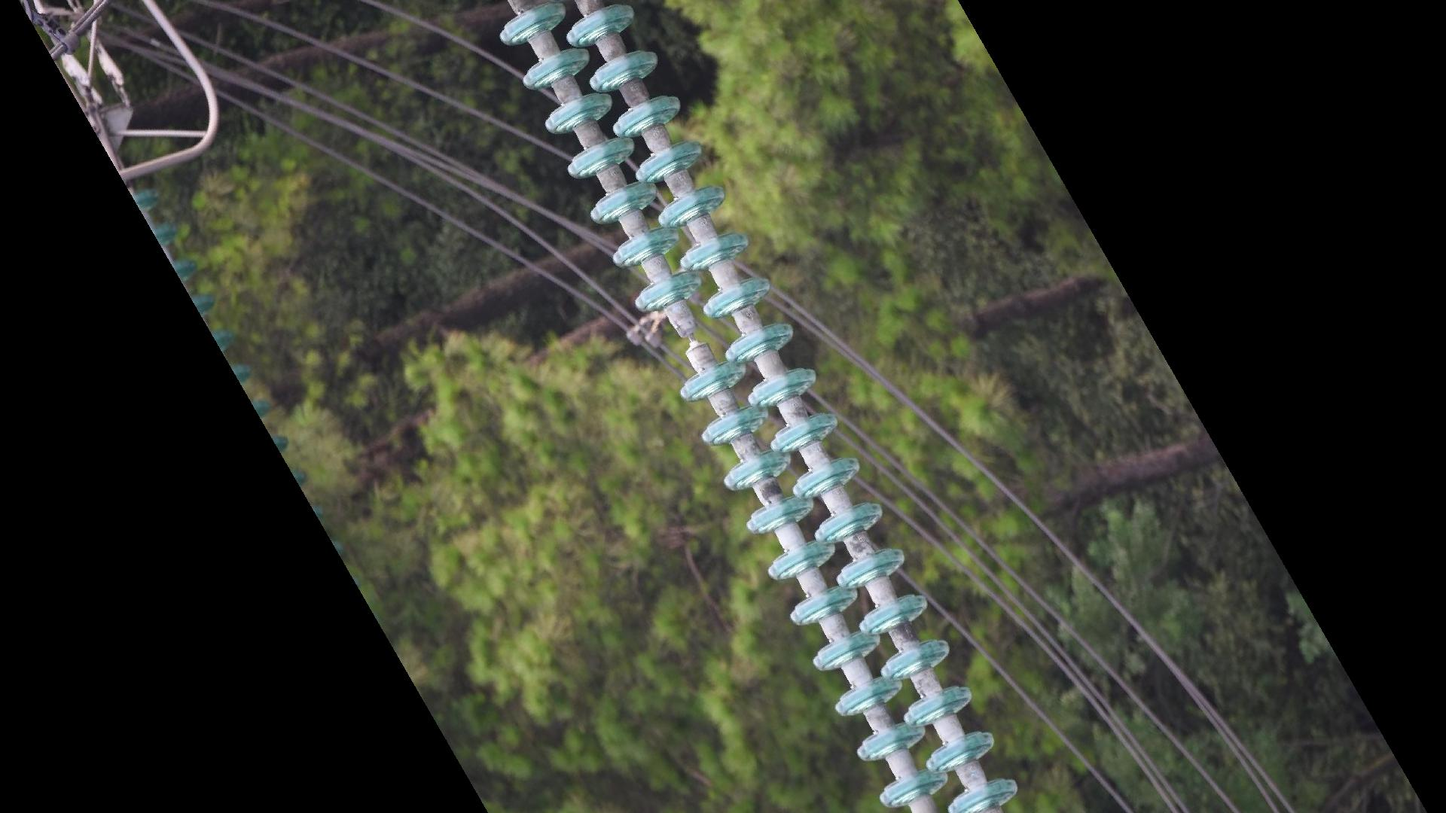insulator: (491, 1, 1024, 813)
insulator_stringdrop: (630, 265, 752, 406)
